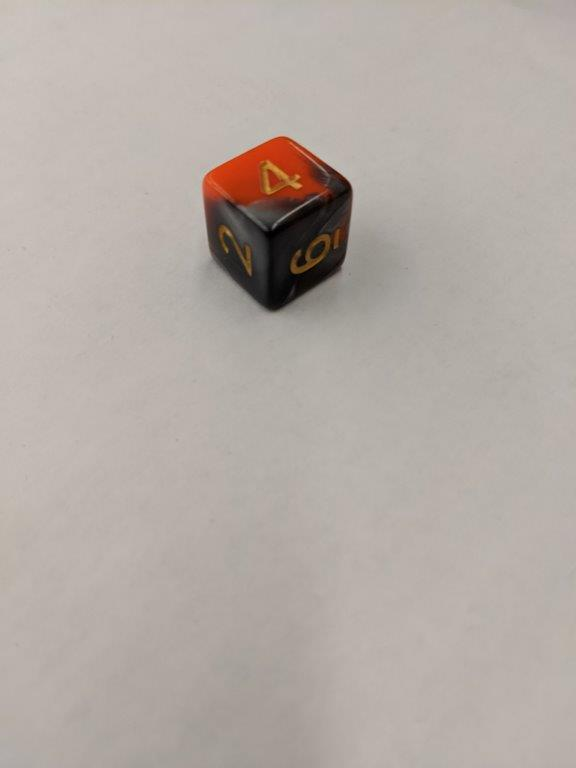d6-4: (201, 133, 354, 313)
